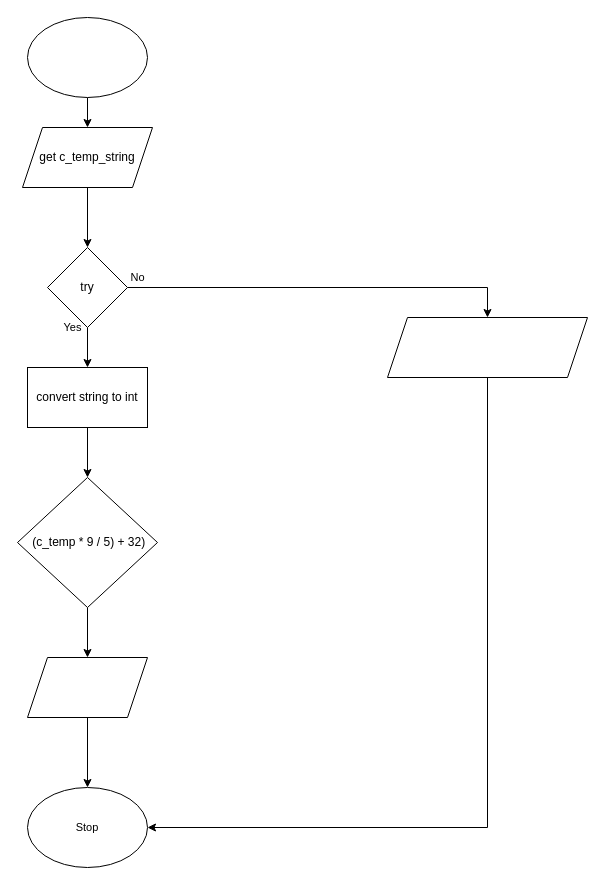
Some shapes in this 605 by 885 pixel diagram are drawn without their labels. Each missing label, with the box of its shape:
calculate_farenheit():: (26, 16, 148, 98)
print("Invalid input. Please try again"): (386, 316, 588, 378)
print(f_temp): (26, 656, 148, 718)
